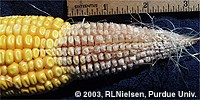corn: (1, 15, 199, 96)
